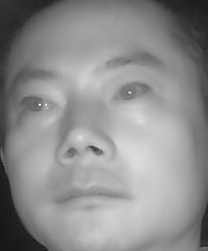eye: (108, 79, 153, 104), (14, 92, 58, 114)
mouth: (53, 176, 134, 215)
